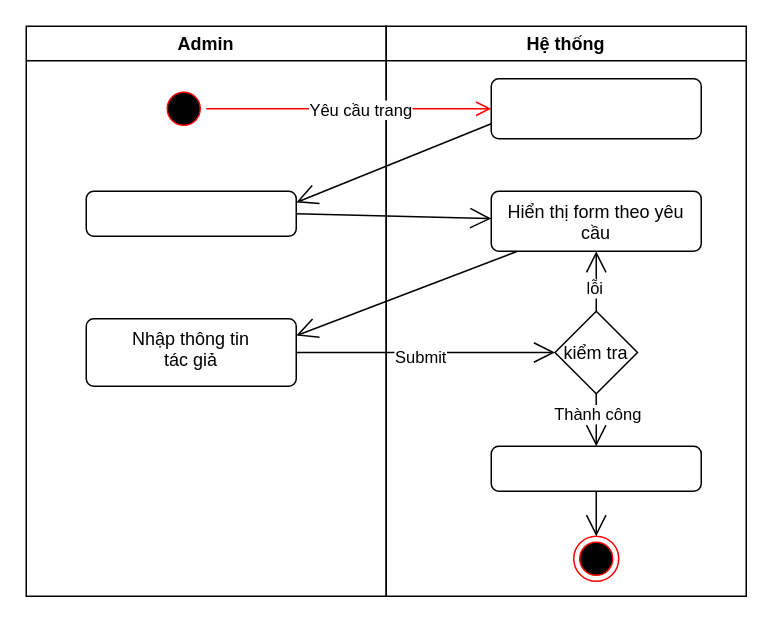
The diagram is 773 pixels wide and 623 high, and some of its shapes have lost their labels. Here are the shapes that lost their labels. From the top down, the centre of each, then its label:
At point 595,108: "Hiển thị trang quản lý tác giả".
At point 190,213: "Chọn thêm tác giả".
At point 595,468: "Cập nhật cơ sở dữ liệu".
